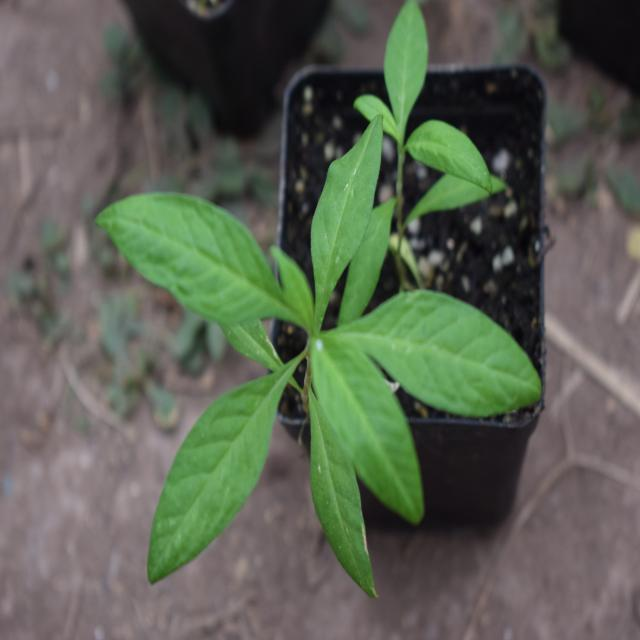white_smart_weed: (87, 140, 529, 584)
